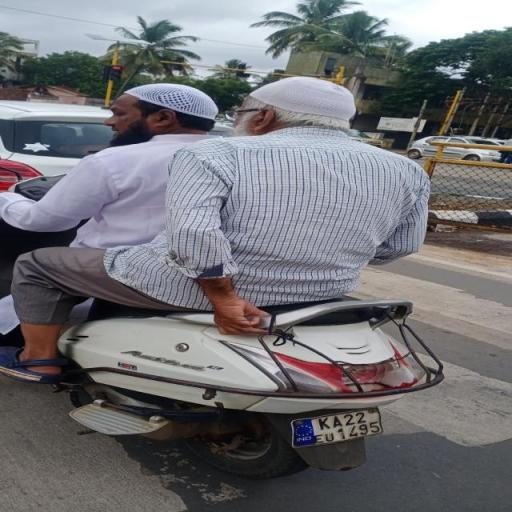bike: (0, 67, 454, 486)
numberplate: (289, 398, 397, 452)
withouthelmet: (244, 78, 352, 129), (113, 84, 208, 138)
